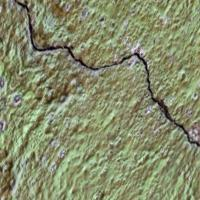crack: (18, 1, 199, 149)
